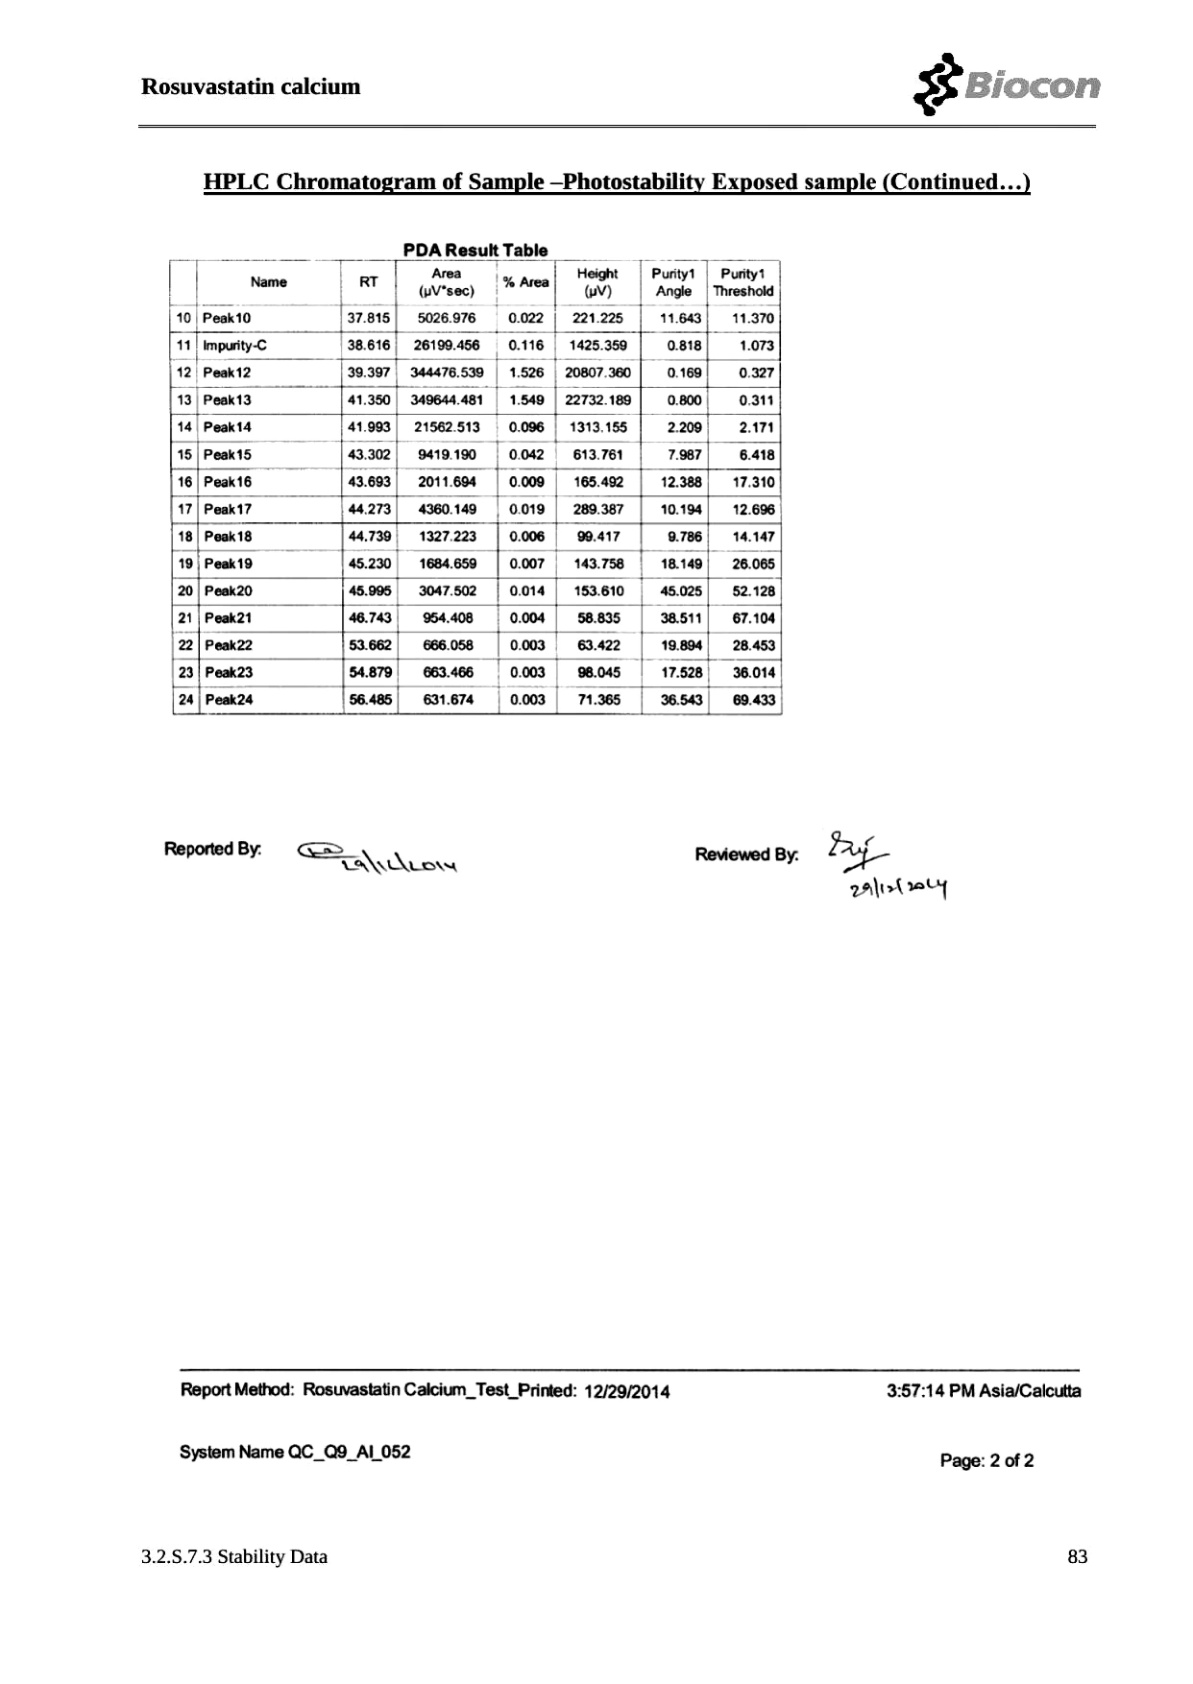full_lined: (169, 258, 784, 715)
